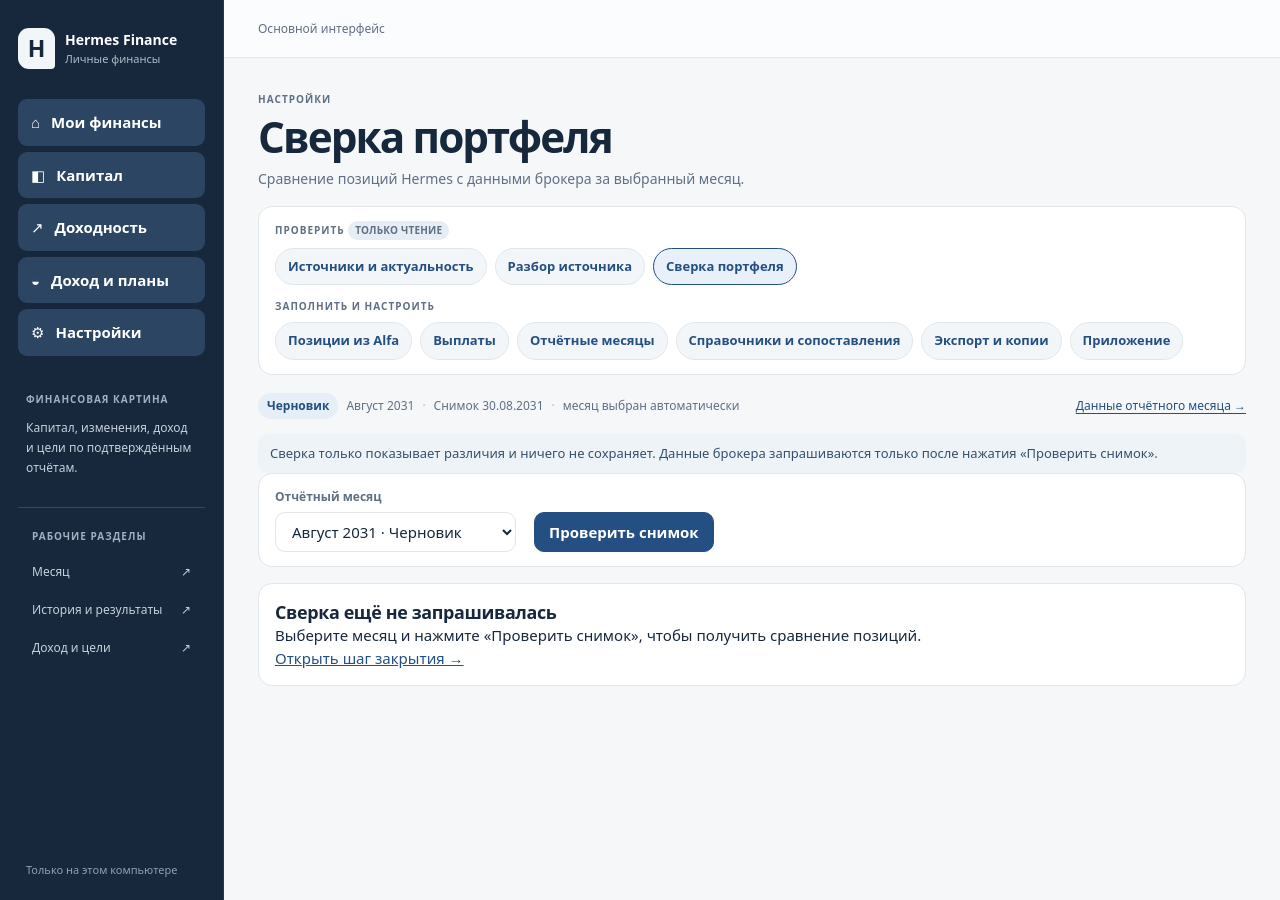
Test: UI v2 Data reconciliation › rejects a preview response whose reporting_month_id does not match the request
Expected: the element with test id "reconciliation-idle" is shown, [258, 583, 1246, 686]
Click the button "Проверить снимок" at (624, 532), box [534, 512, 714, 552]
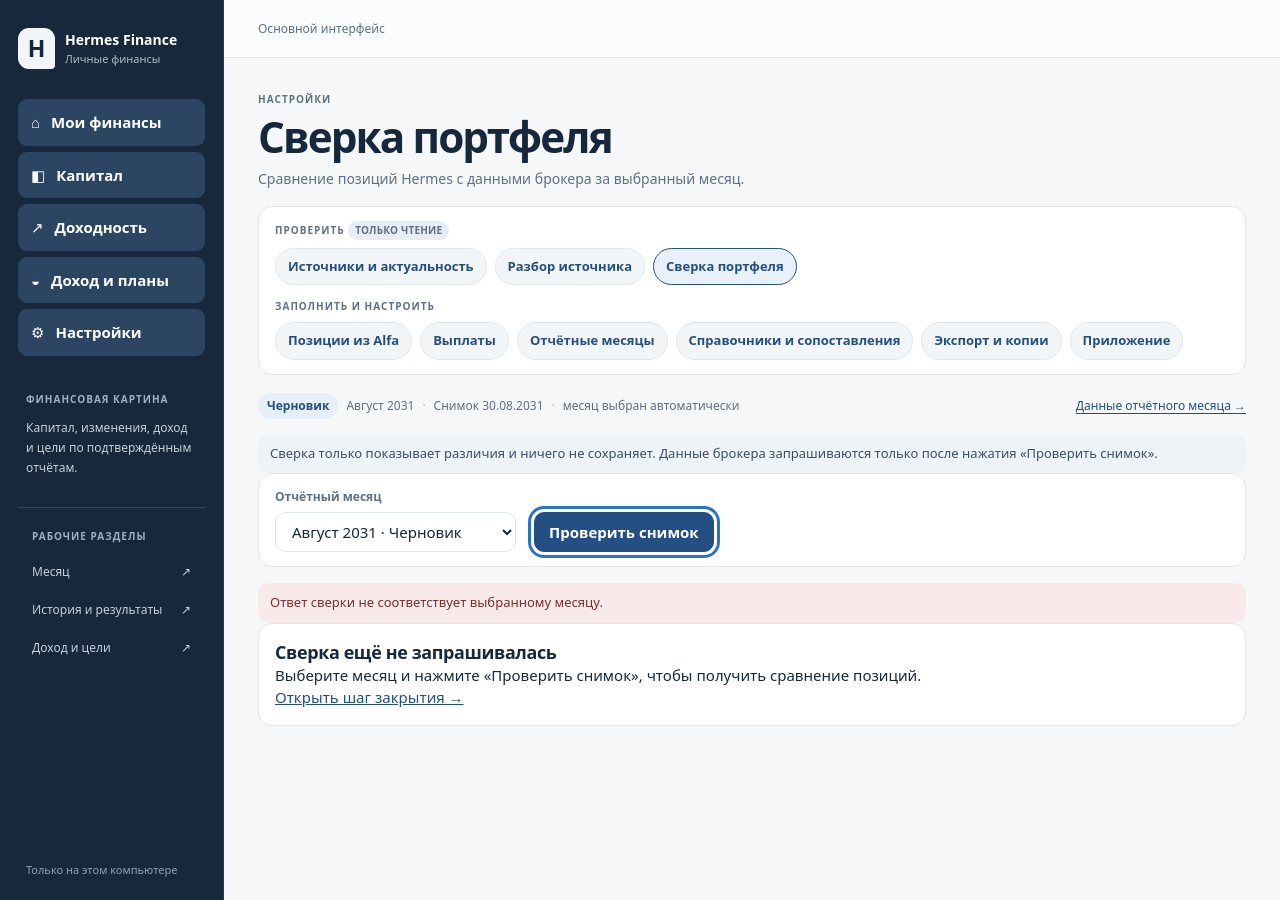
Expected: the element with test id "reconciliation-idle" is shown, [258, 623, 1246, 726]
Expected: the message shows "Ответ сверки не соответствует выбранному месяцу", [270, 593, 603, 611]
